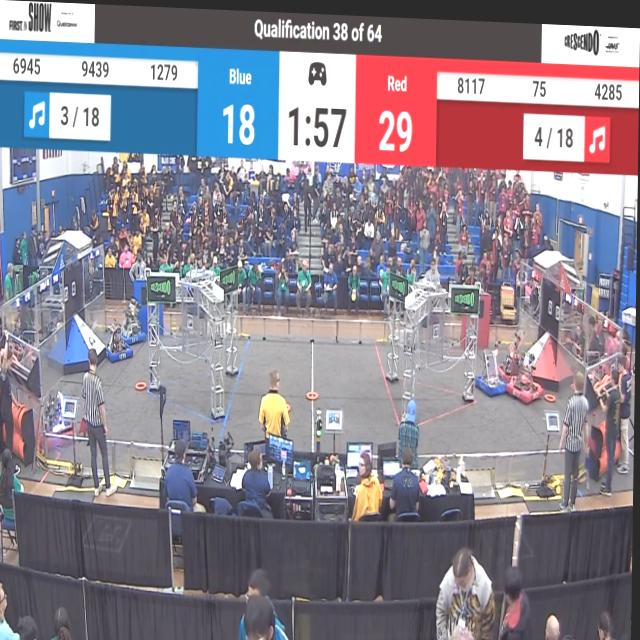Robot: (507, 326, 554, 404), (40, 381, 80, 450), (477, 335, 507, 396), (503, 316, 529, 378), (103, 312, 132, 365), (122, 296, 147, 346)
